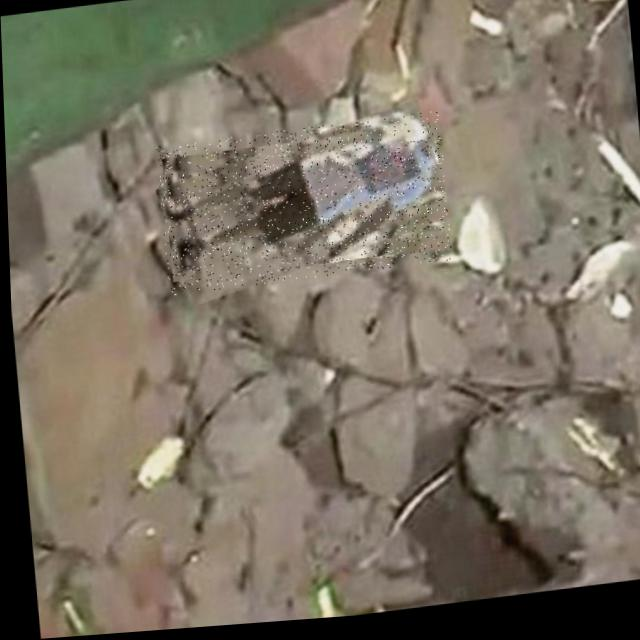Person in Rubble: (154, 117, 449, 299)
